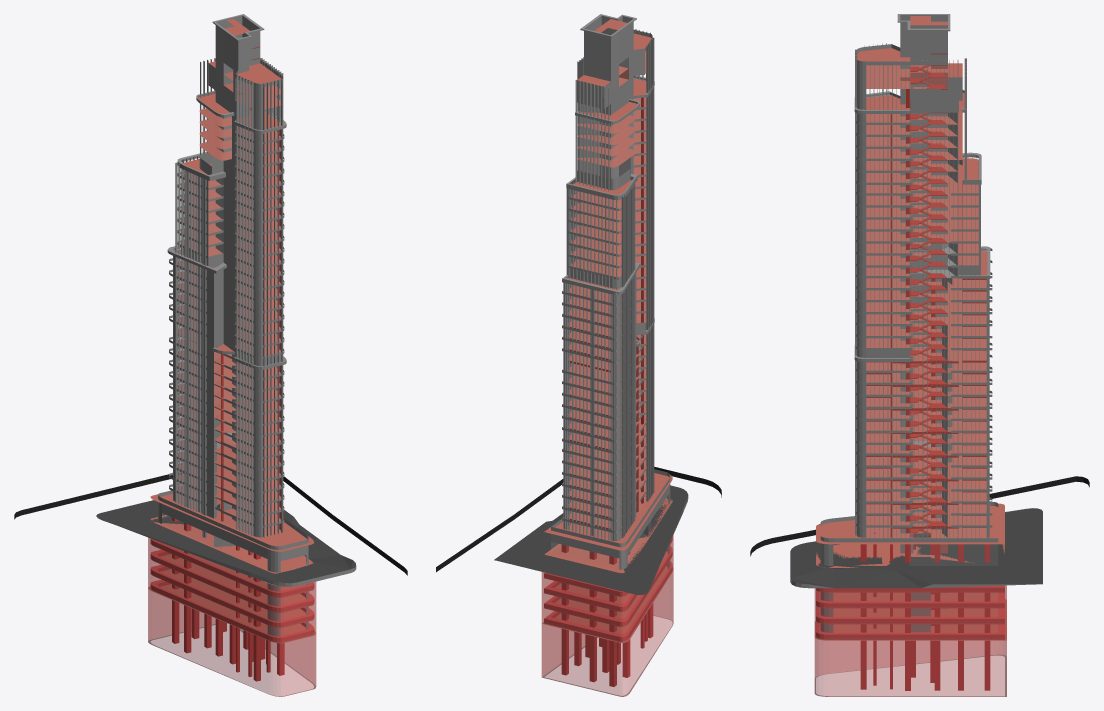
The model's file is isosceles_highrise_concept.glb.
3 renders of one model, left to right at view 1: azimuth 30°, elevation 25°; view 2: azimuth 150°, elevation 25°; view 3: azimuth 270°, elevation 25°, orthographic. The views are drawn at different scales.
Visible parts, largest first — view 1: floorplates.003_85, floorplates_45, structure-walls_32, Cube.008_6, Cube.002_0, site_86, Cube.004_2, floorplates.014_93, floorplates.039_118, floorplates.016_94, floorplates.007_87, floorplates.008_88 (+8 smaller); view 2: floorplates.003_85, floorplates_45, site_86, Cube.006_4, Cube.002_0, Cube.008_6, floorplates.039_118, floorplates.014_93, structure-walls_32, Cube.007_5, Cube.027_25, floorplates.009_89 (+15 smaller); view 3: floorplates.003_85, floorplates_45, Cube.003_1, site_86, structure-walls_32, floorplates.039_118, floorplates.007_87, floorplates.008_88, floorplates.009_89, floorplates.037_116, floorplates.014_93, floorplates.016_94 (+20 smaller).
Boxes of the visible parts, left/top/right/bottom form: floorplates.003_85: left=148, top=490, right=316, bottom=696; floorplates_45: left=175, top=93, right=281, bottom=537; structure-walls_32: left=167, top=91, right=286, bottom=537; Cube.008_6: left=175, top=162, right=203, bottom=514; Cube.002_0: left=236, top=75, right=253, bottom=535; site_86: left=14, top=473, right=407, bottom=586; Cube.004_2: left=263, top=79, right=282, bottom=537; floorplates.014_93: left=177, top=74, right=283, bottom=366; floorplates.039_118: left=212, top=14, right=280, bottom=91; floorplates.016_94: left=253, top=129, right=283, bottom=356; floorplates.007_87: left=169, top=415, right=284, bottom=527; floorplates.008_88: left=169, top=335, right=284, bottom=448; floorplates.003_85: left=541, top=469, right=673, bottom=696; floorplates_45: left=568, top=102, right=646, bottom=539; site_86: left=436, top=467, right=721, bottom=594; Cube.006_4: left=564, top=283, right=612, bottom=541; Cube.002_0: left=646, top=37, right=654, bottom=501; Cube.008_6: left=621, top=187, right=632, bottom=538; floorplates.039_118: left=580, top=14, right=651, bottom=92; floorplates.014_93: left=566, top=81, right=646, bottom=335; structure-walls_32: left=562, top=75, right=654, bottom=540; Cube.007_5: left=569, top=189, right=617, bottom=289; Cube.027_25: left=575, top=79, right=609, bottom=191; floorplates.009_89: left=562, top=252, right=646, bottom=363; floorplates.003_85: left=814, top=502, right=1006, bottom=696; floorplates_45: left=866, top=87, right=987, bottom=537; Cube.003_1: left=866, top=59, right=958, bottom=538; site_86: left=750, top=476, right=1089, bottom=588; structure-walls_32: left=854, top=84, right=990, bottom=553; floorplates.039_118: left=857, top=14, right=950, bottom=68; floorplates.007_87: left=856, top=425, right=992, bottom=527; floorplates.008_88: left=856, top=342, right=992, bottom=444; floorplates.009_89: left=856, top=248, right=992, bottom=350; floorplates.037_116: left=857, top=44, right=962, bottom=109; floorplates.014_93: left=857, top=84, right=981, bottom=537; floorplates.016_94: left=857, top=113, right=865, bottom=347.
Size of the model in its own units: 68.43 by 168 by 78.11.
